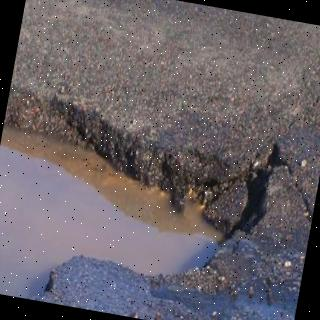pothole: (0, 87, 280, 300)
